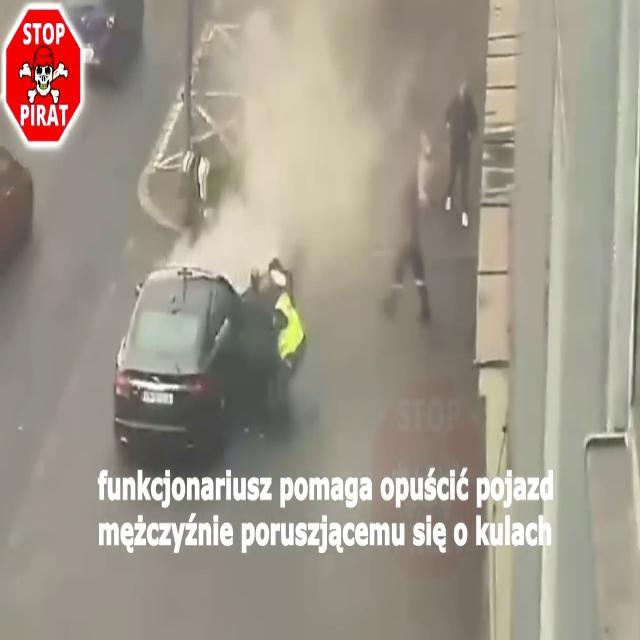Smoke: (188, 0, 480, 304)
